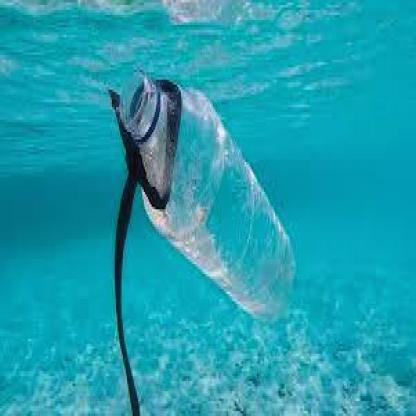pbottle: (115, 57, 294, 324)
